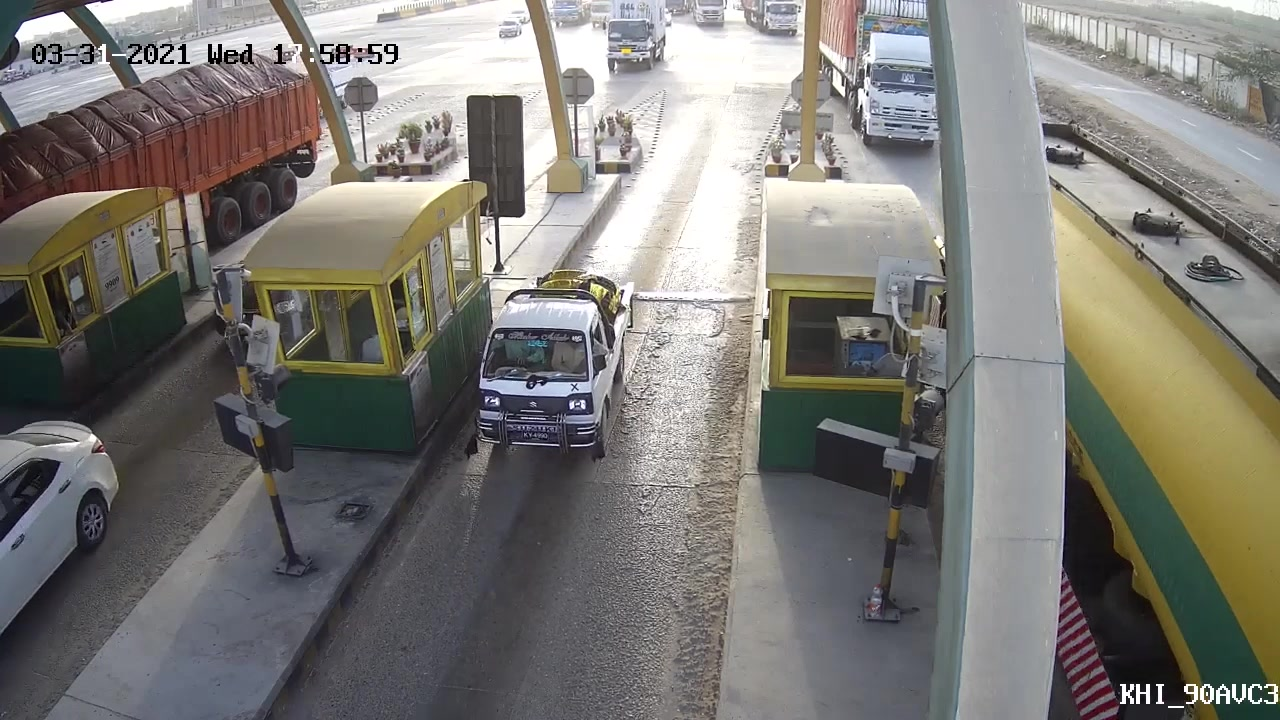F2: (457, 267, 648, 467)
